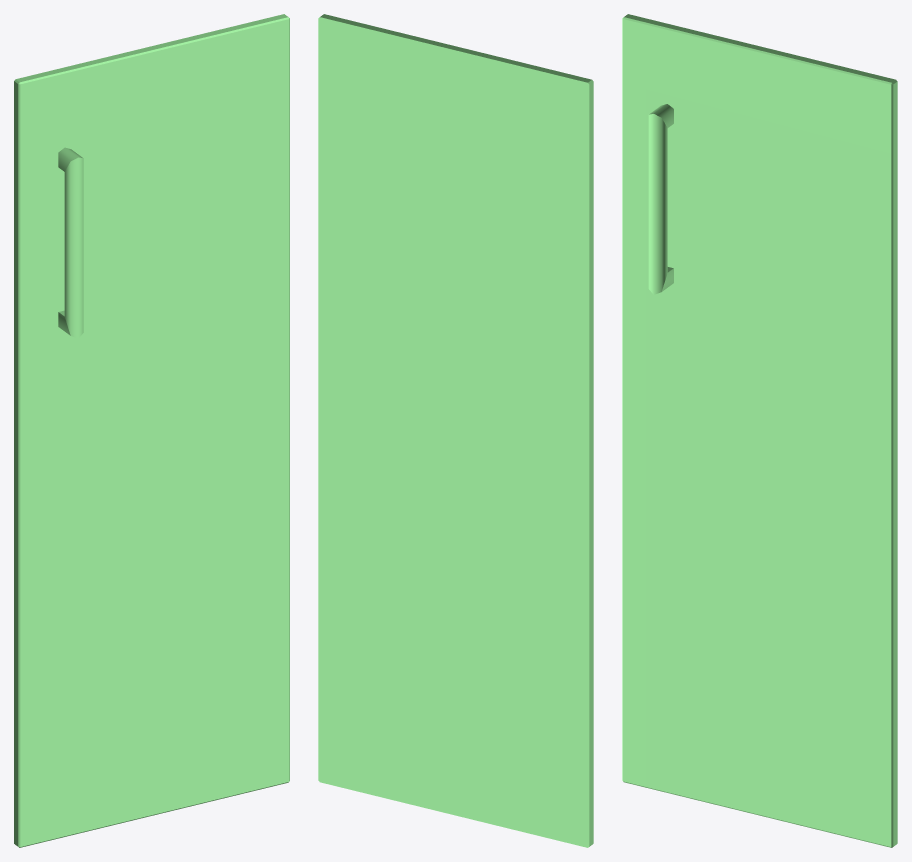
File: RFAIPP_Kitchen_Cabinet_Door_Down_Right.FBX
The picture shows the model from 3 angles, left to right: view 1: azimuth 30°, elevation 25°; view 2: azimuth 150°, elevation 25°; view 3: azimuth 330°, elevation 25°; orthographic projection.
Parts seen in each view (by area): view 1: RFAIPP_Kitchen_Cabinet_Door_Down_Right; view 2: RFAIPP_Kitchen_Cabinet_Door_Down_Right; view 3: RFAIPP_Kitchen_Cabinet_Door_Down_Right.
Boxes of the visible parts, left/top/right/bottom form: RFAIPP_Kitchen_Cabinet_Door_Down_Right: left=14, top=14, right=289, bottom=847; RFAIPP_Kitchen_Cabinet_Door_Down_Right: left=318, top=14, right=593, bottom=847; RFAIPP_Kitchen_Cabinet_Door_Down_Right: left=622, top=14, right=897, bottom=847.
Bounding box in the file's own units: 0.2998 × 0.8086 × 0.0357.
